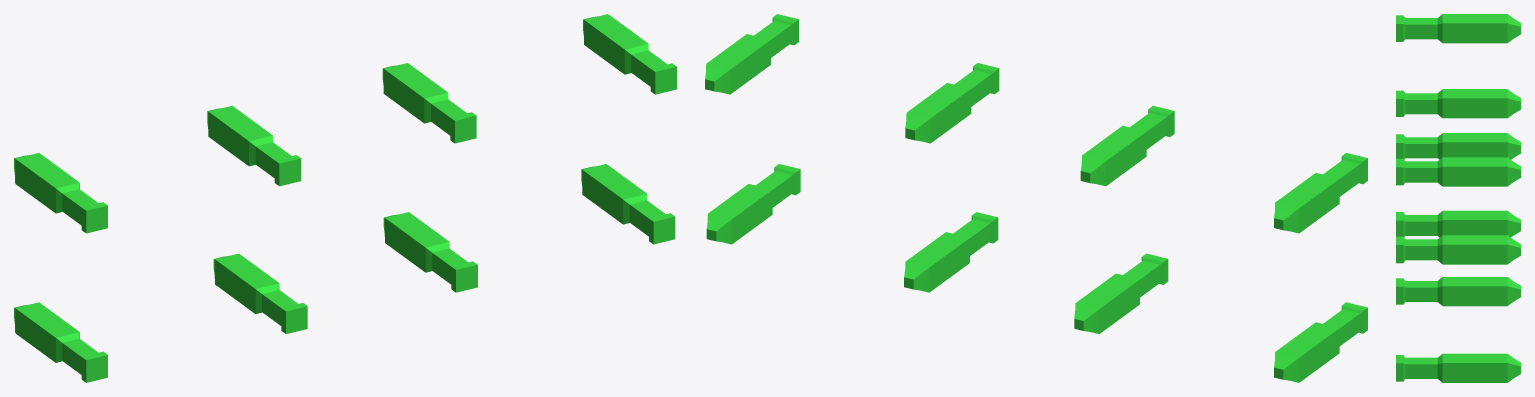
File: sleepDart.fbx
3 renders of one model, left to right at view 1: azimuth 30°, elevation 25°; view 2: azimuth 150°, elevation 25°; view 3: azimuth 270°, elevation 25°, orthographic. The views are drawn at different scales.
Visible parts, largest first — view 1: Cube.003; view 2: Cube.003; view 3: Cube.003.
Part boxes in pixels (x1=…): Cube.003: x1=14, y1=14, x2=676, y2=382; Cube.003: x1=705, y1=14, x2=1367, y2=382; Cube.003: x1=1396, y1=14, x2=1520, y2=382.
Bounding box in the file's own units: 89.54 × 25.19 × 20.51.
